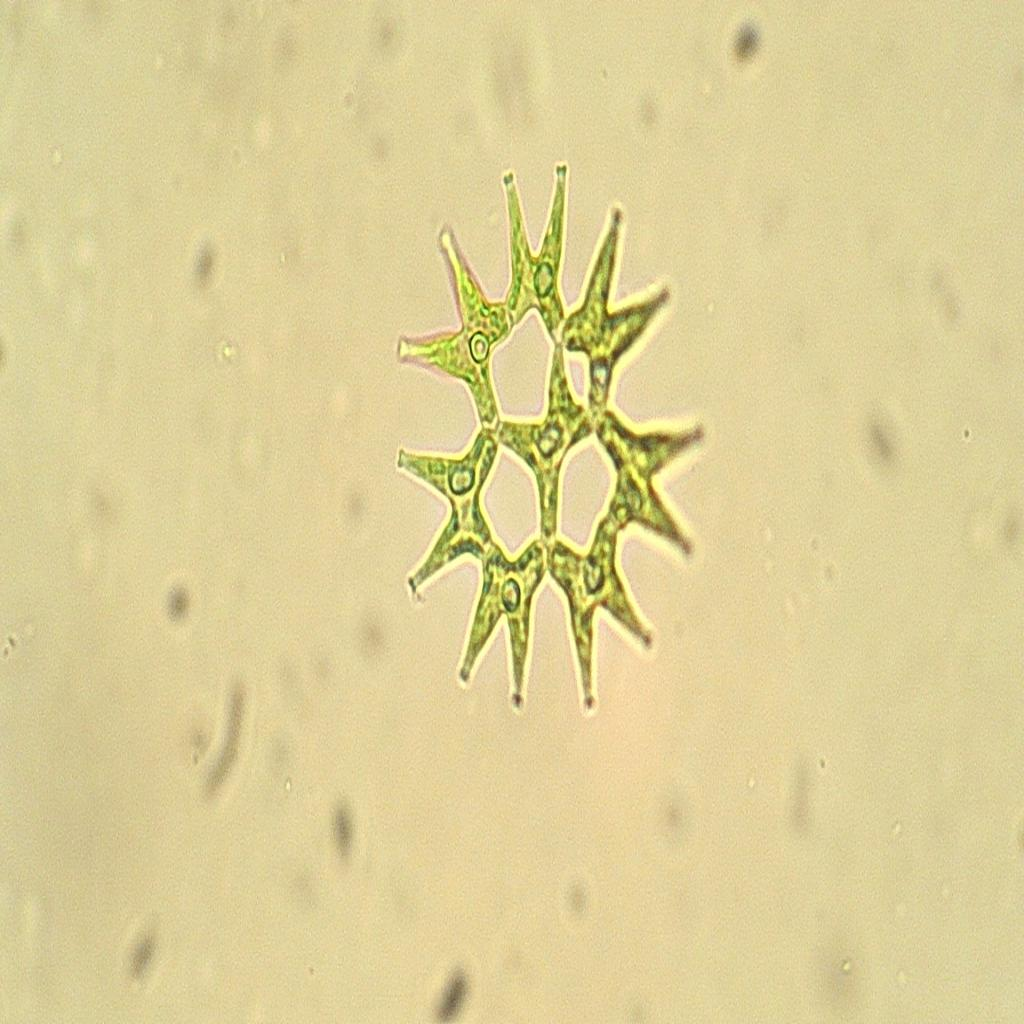Pediastrum_75T: (384, 137, 714, 745)
